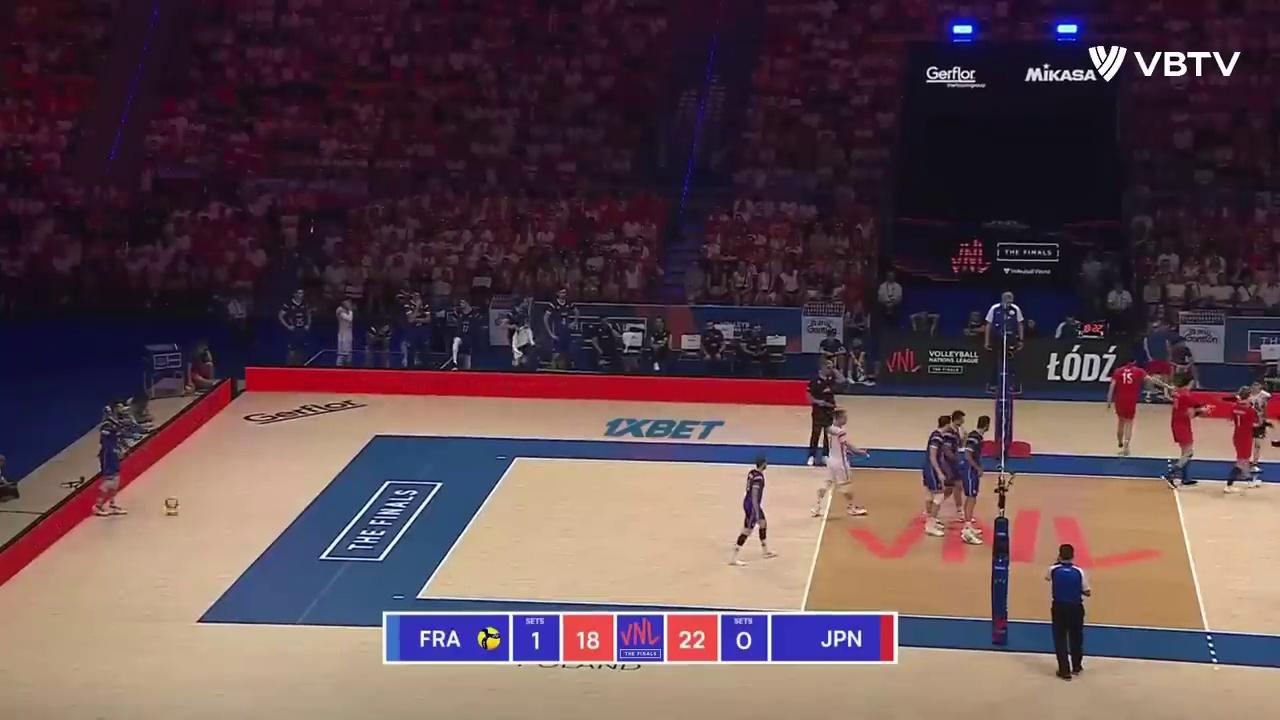ball: (166, 499, 178, 515)
